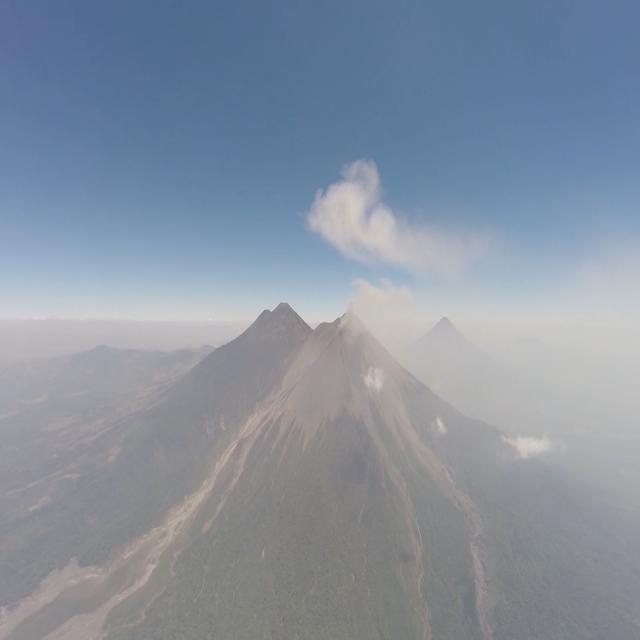Plume: (307, 148, 492, 286), (344, 275, 417, 340)
Summit: (340, 308, 362, 320)
